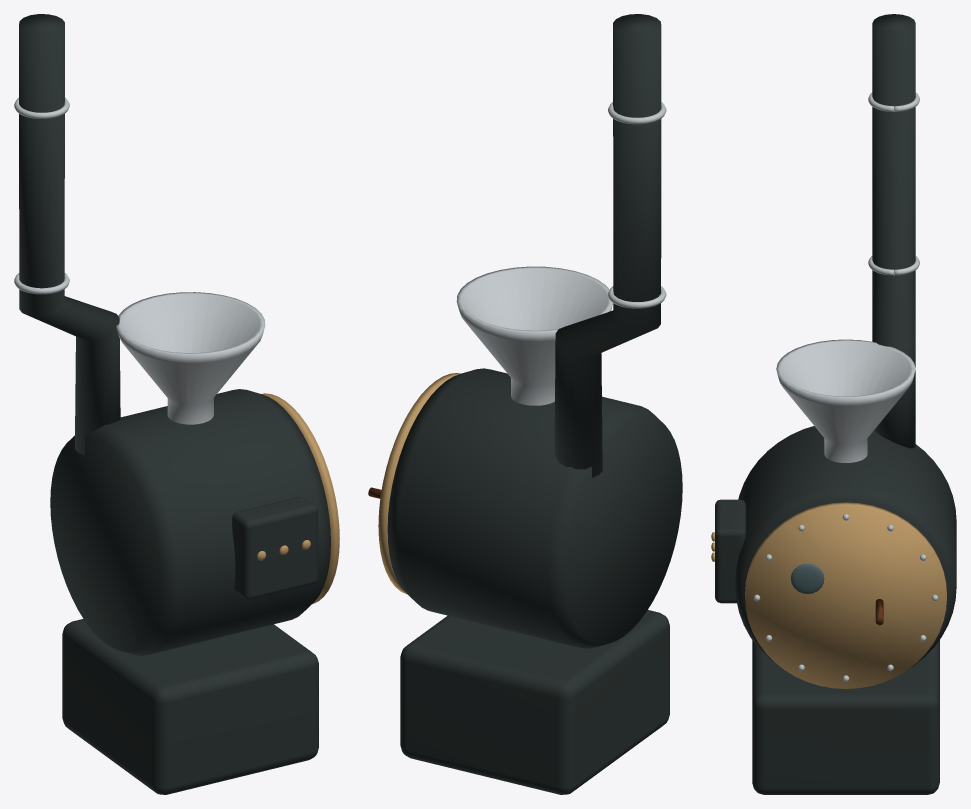
Rendered from atelier_roaster.glb.
3 renders of one model, left to right at view 1: azimuth 30°, elevation 25°; view 2: azimuth 150°, elevation 25°; view 3: azimuth 270°, elevation 25°, orthographic. The views are drawn at different scales.
Visible parts, largest first — view 1: atelier_roaster / Atelier / charcoal powder coat, atelier_roaster / Atelier / brushed nickel, atelier_roaster / Atelier / satin brass; view 2: atelier_roaster / Atelier / charcoal powder coat, atelier_roaster / Atelier / brushed nickel, atelier_roaster / Atelier / satin brass; view 3: atelier_roaster / Atelier / charcoal powder coat, atelier_roaster / Atelier / satin brass, atelier_roaster / Atelier / brushed nickel, atelier_roaster / Atelier / Roaster gauge glass.
Boxes of the visible parts, x1,y1,x2,y2 form: atelier_roaster / Atelier / charcoal powder coat: [19, 14, 330, 794]; atelier_roaster / Atelier / brushed nickel: [14, 98, 265, 424]; atelier_roaster / Atelier / satin brass: [257, 393, 339, 604]; atelier_roaster / Atelier / charcoal powder coat: [387, 14, 682, 794]; atelier_roaster / Atelier / brushed nickel: [456, 102, 666, 405]; atelier_roaster / Atelier / satin brass: [378, 373, 460, 594]; atelier_roaster / Atelier / charcoal powder coat: [715, 14, 956, 794]; atelier_roaster / Atelier / satin brass: [711, 502, 946, 688]; atelier_roaster / Atelier / brushed nickel: [753, 92, 938, 681]; atelier_roaster / Atelier / Roaster gauge glass: [790, 563, 824, 593].
Bounding box in the file's own units: 1.28 × 3.13 × 1.02.
5 materials, 1 textured.
